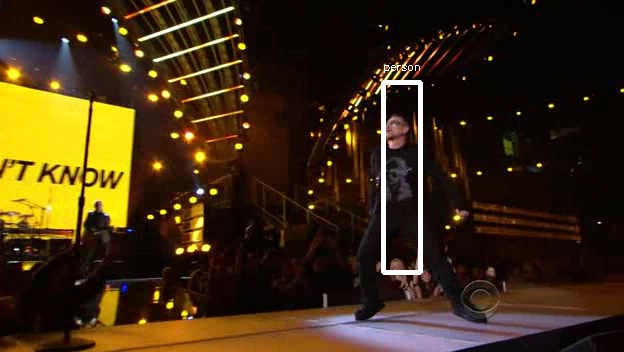person: (365, 115, 434, 231), (362, 115, 431, 231), (368, 115, 437, 231), (365, 112, 434, 228), (365, 118, 434, 234)
target_negative: (297, 129, 609, 290), (20, 36, 354, 126), (514, 147, 610, 197), (587, 164, 608, 228), (117, 218, 153, 245), (570, 85, 600, 104)
